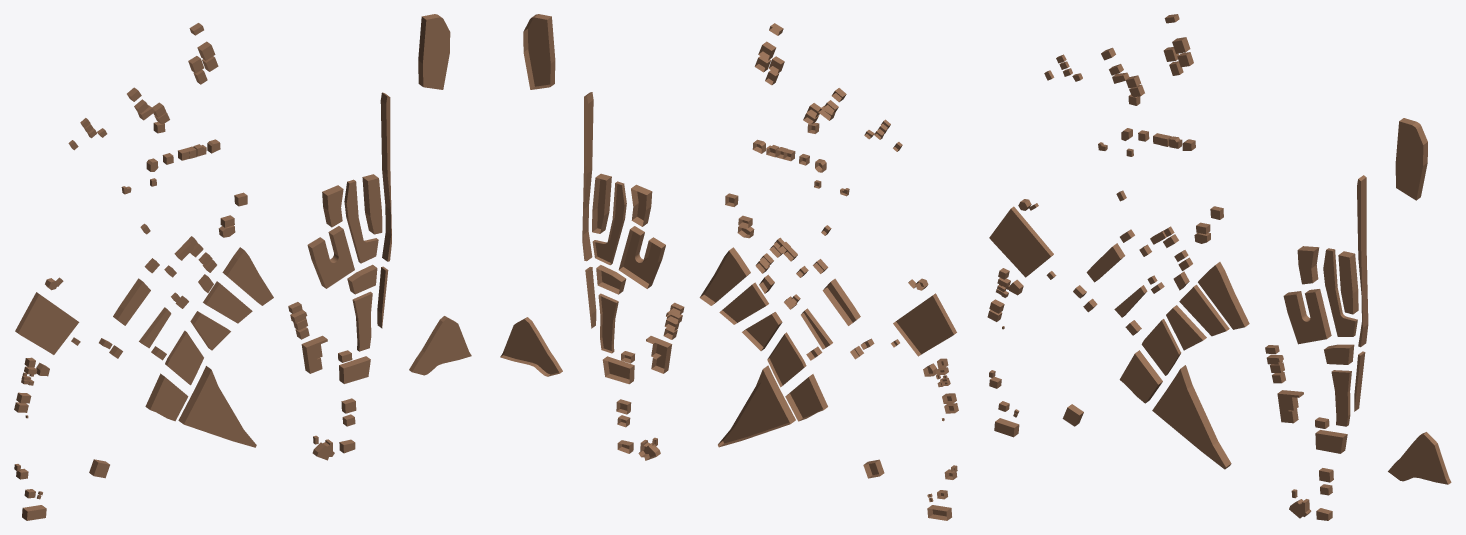
The model's file is buildings_damaged.obj.
3 views of the same model, side by side, from view 1: azimuth 30°, elevation 25°; view 2: azimuth 150°, elevation 25°; view 3: azimuth 330°, elevation 25° (orthographic).
Parts seen in each view (by area): view 1: buildings_damaged; view 2: buildings_damaged; view 3: buildings_damaged.
Boxes of the visible parts, bbox=[...] form: buildings_damaged: bbox=[14, 14, 471, 520]; buildings_damaged: bbox=[500, 14, 958, 520]; buildings_damaged: bbox=[987, 14, 1451, 520].
Bounding box in the file's own units: 1047 × 1023 × 21.7.
